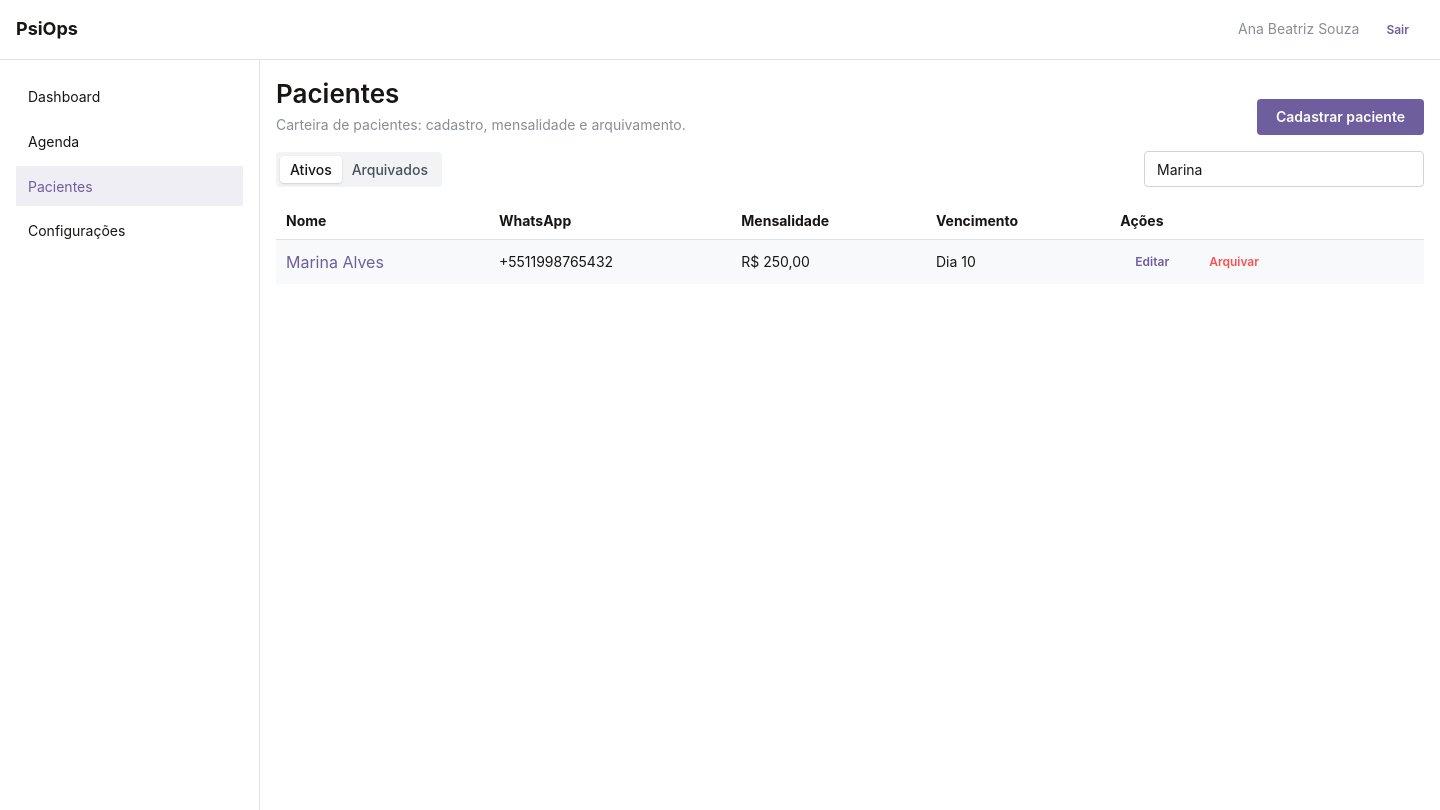
Test: AppRoutes › navega da lista de pacientes (PSI-033) para o detalhe (PSI-034) e volta preservando a busca
Expected: the field named "Buscar paciente por nome" holds "Marina", [1144,151,1424,187]
Click the link "Marina Alves" at (335, 262), box [286,252,384,272]
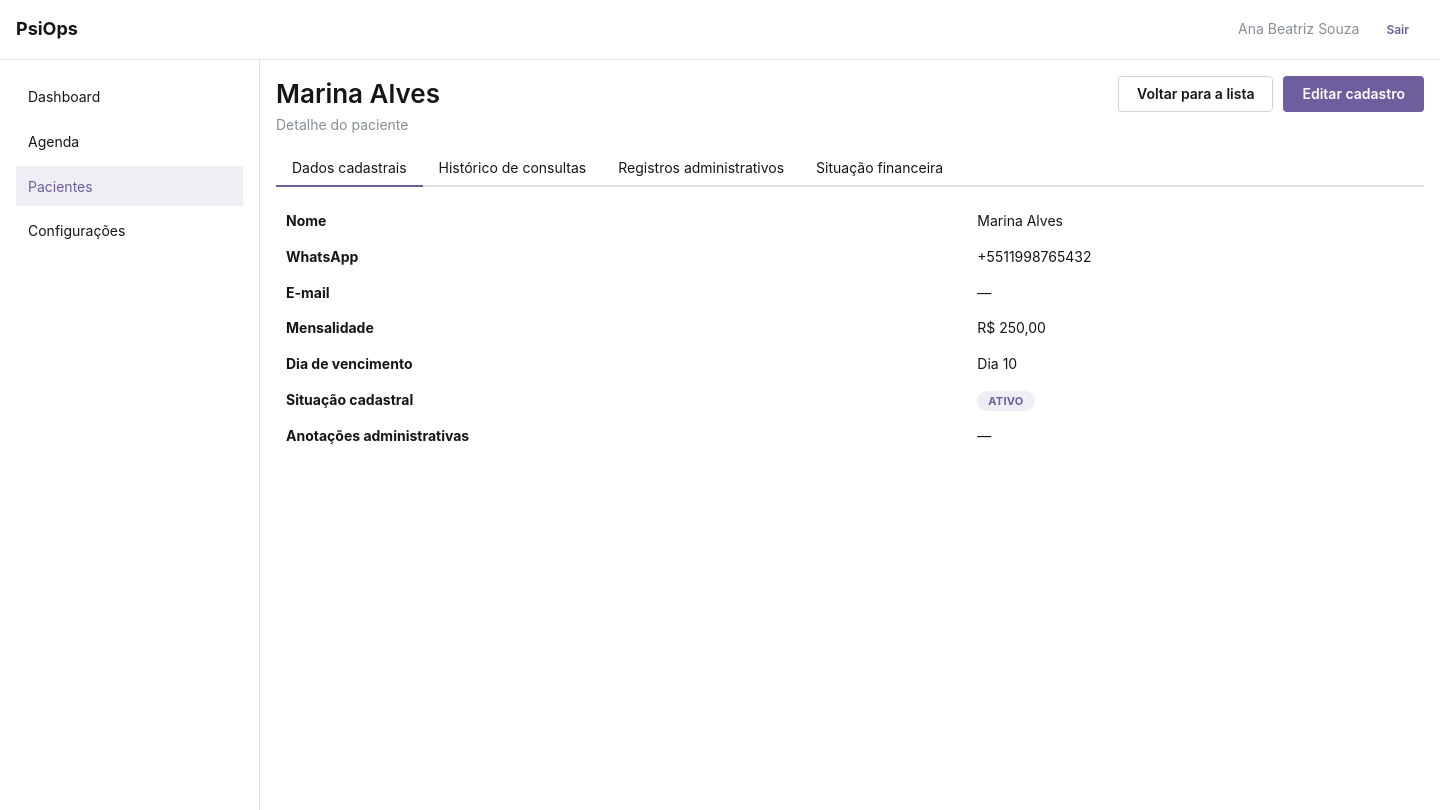
Expected: the heading "Marina Alves" is shown, [276,76,440,111]
Expected: the text "Detalhe do paciente" is shown, [276,116,408,133]
Click the link "Voltar para a lista" at (1196, 94), box [1118,76,1274,112]
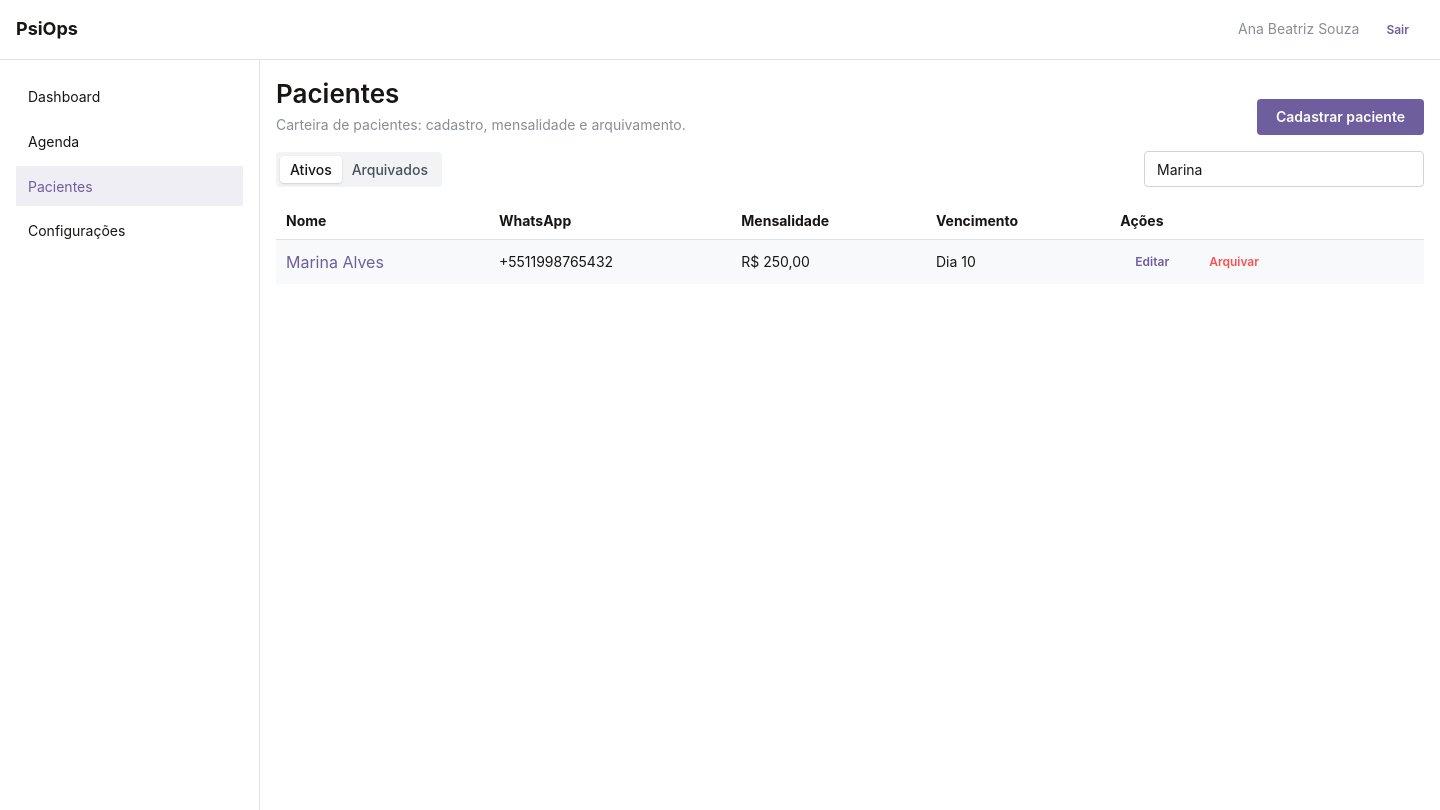
Expected: the link "Marina Alves" is shown, [286,252,384,272]
Expected: the field named "Buscar paciente por nome" holds "Marina", [1144,151,1424,187]
